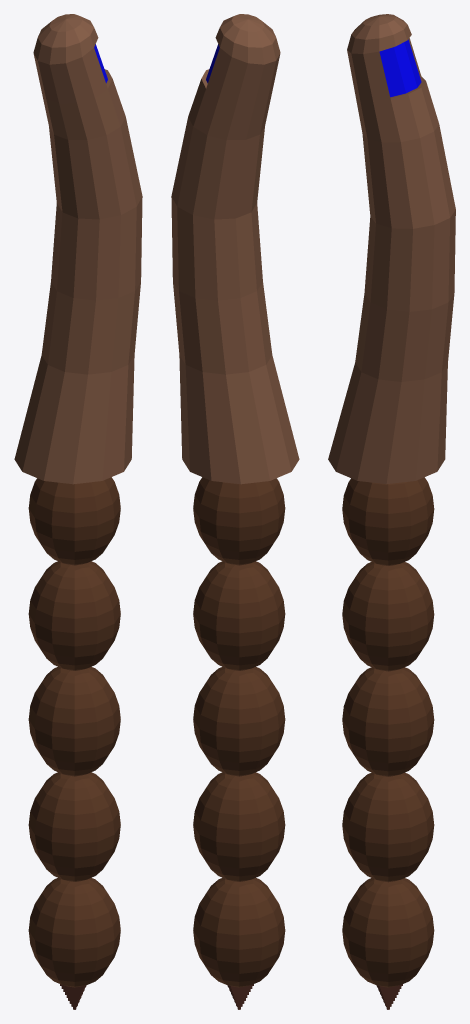
The model's file is Wand 244.glb.
3 renders of one model, left to right at view 1: azimuth 30°, elevation 25°; view 2: azimuth 150°, elevation 25°; view 3: azimuth 330°, elevation 25°, orthographic.
Parts seen in each view (by area): view 1: GeneratedWand; view 2: GeneratedWand; view 3: GeneratedWand.
Boxes of the visible parts, left/top/right/bottom form: GeneratedWand: left=14, top=14, right=142, bottom=1009; GeneratedWand: left=171, top=14, right=299, bottom=1009; GeneratedWand: left=328, top=14, right=455, bottom=1009.
Size of the model in its own units: 0.0644 by 0.5332 by 0.0572.
